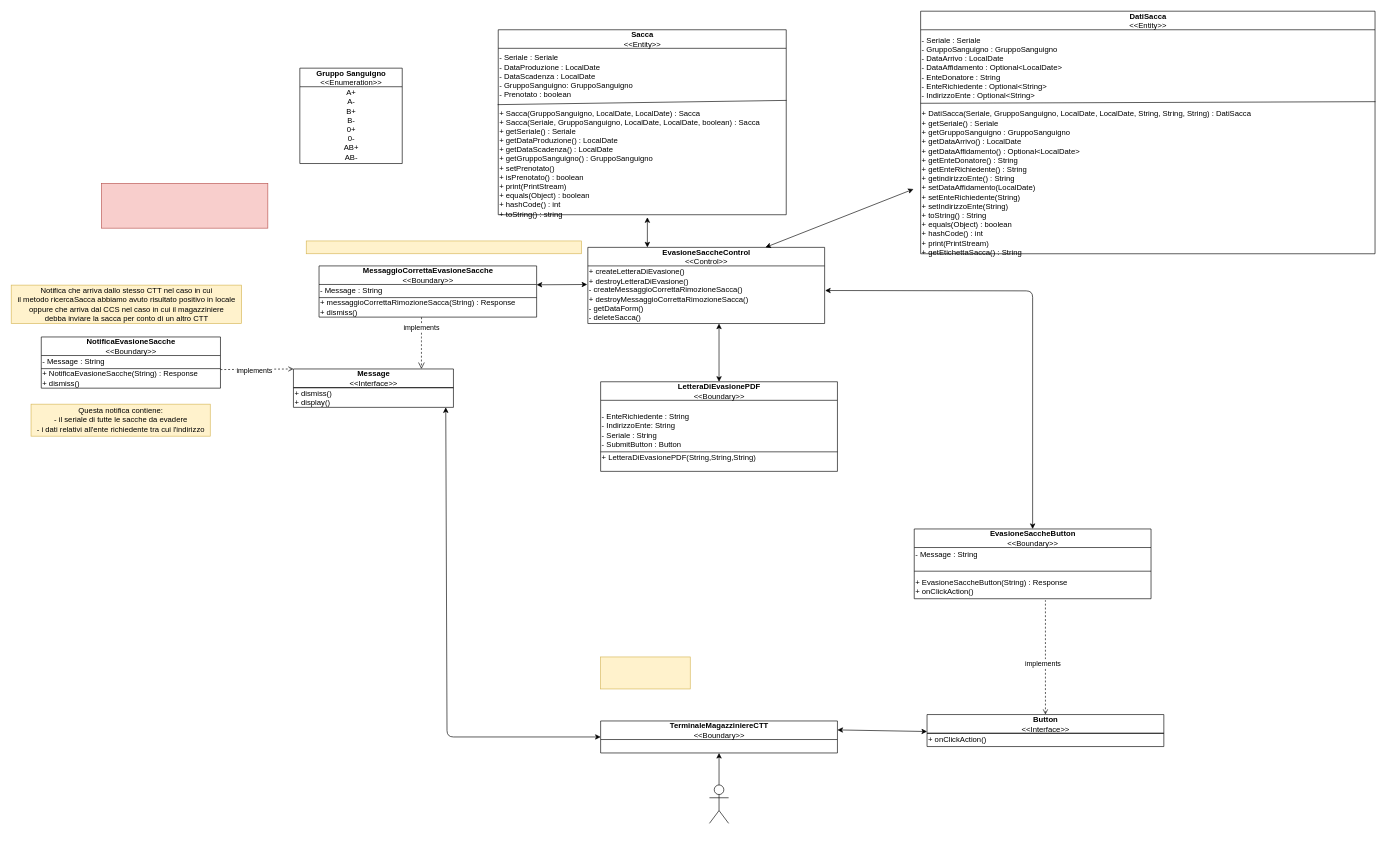
Some shapes in this 1388 by 848 pixel diagram are drawn without their labels. Here are the shapes that lost their labels. From the top down, the centre of each, then its label:
At (x=184, y=205): "Class diagrams relativi allo use case EvasioneSacche".
At (x=443, y=247): "Messaggio di Acknowledgment al magazziniere di corretta evasione dell'ordine".
At (x=645, y=672): "Lato Magazziniere CTT".
At (x=719, y=803): "MagazziniereCTT".
